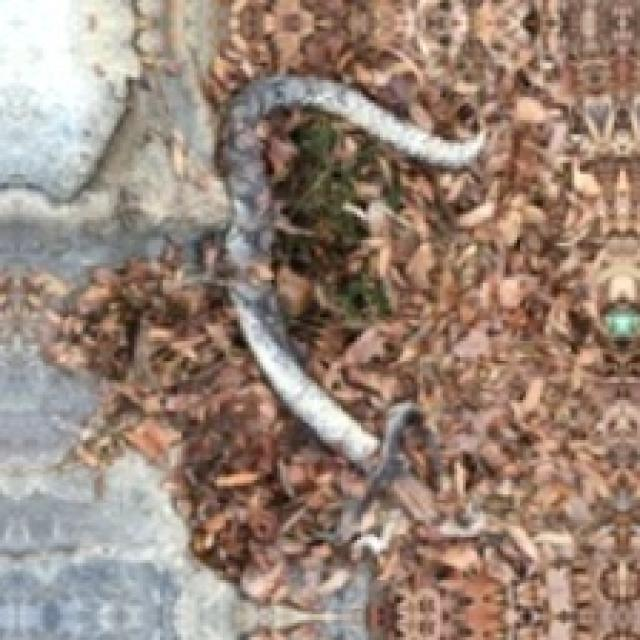reticulated python: (226, 74, 483, 471), (226, 69, 483, 166), (234, 294, 374, 463)
